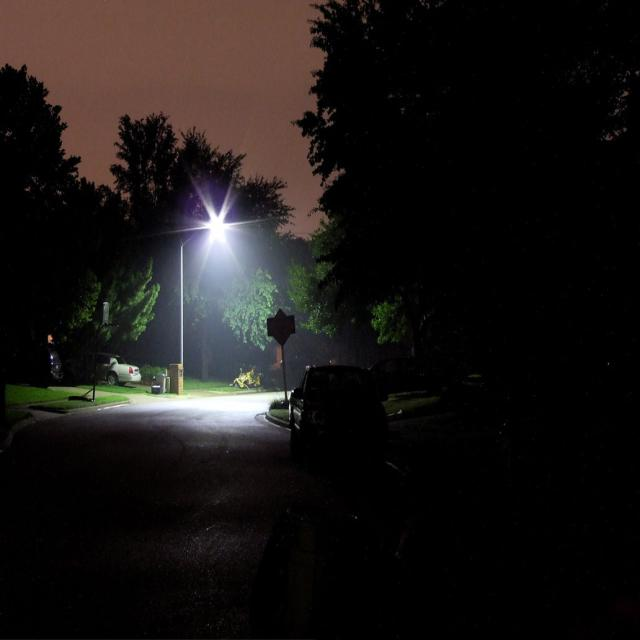Car: (270, 350, 538, 543), (89, 344, 149, 409)
